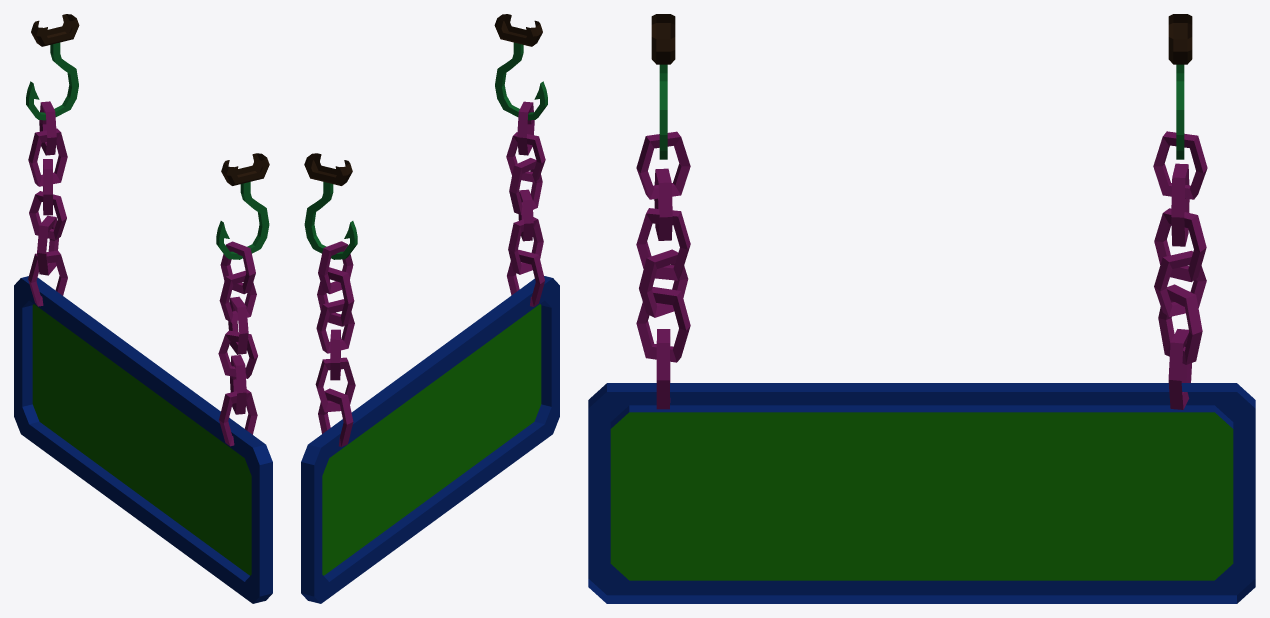
File: MESH_HangingSign.fbx
3 renders of one model, left to right at view 1: azimuth 30°, elevation 25°; view 2: azimuth 150°, elevation 25°; view 3: azimuth 270°, elevation 25°, orthographic. The views are drawn at different scales.
Parts seen in each view (by area): view 1: MESH_HangingSign; view 2: MESH_HangingSign; view 3: MESH_HangingSign.
Part boxes in pixels (bbox=[...]): MESH_HangingSign: bbox=[14, 14, 272, 603]; MESH_HangingSign: bbox=[301, 14, 559, 603]; MESH_HangingSign: bbox=[588, 14, 1255, 603].
Size of the model in its own units: 0.1182 by 0.955 by 1.
